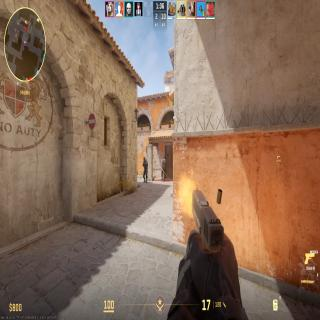CT-Body: (143, 157, 148, 184), (162, 157, 166, 182)
CT-Head: (144, 156, 146, 162), (163, 157, 166, 161)
